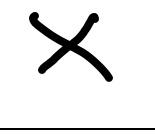mult: (29, 11, 111, 80)
